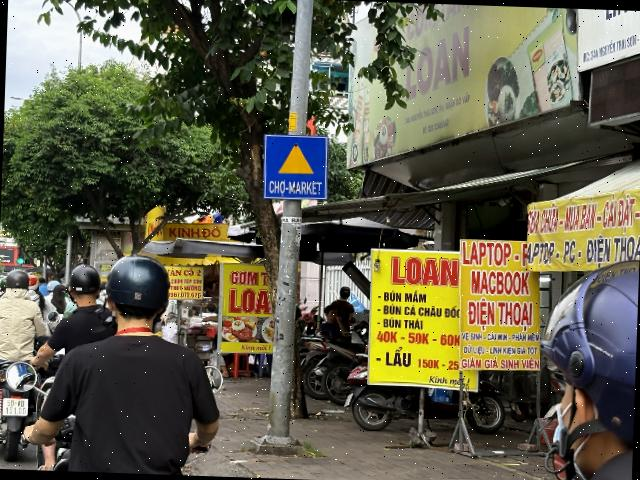khu-vuc-cho-phia-truoc: (262, 133, 328, 200)
